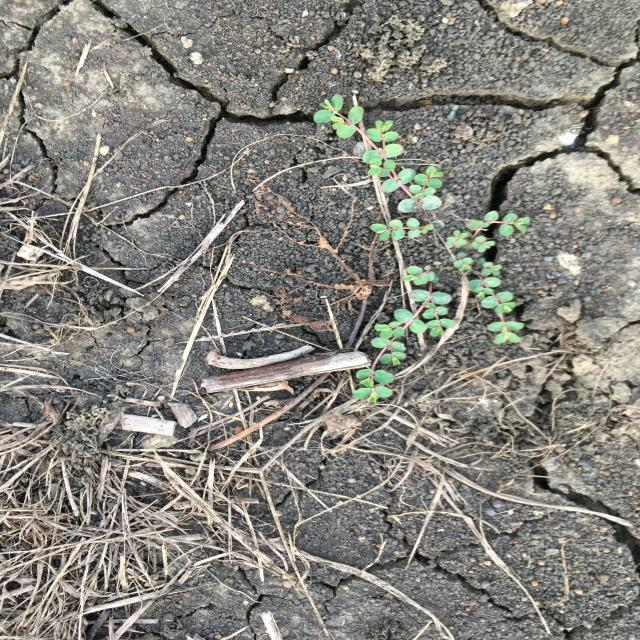SpottedSpurge: (312, 93, 533, 405)
